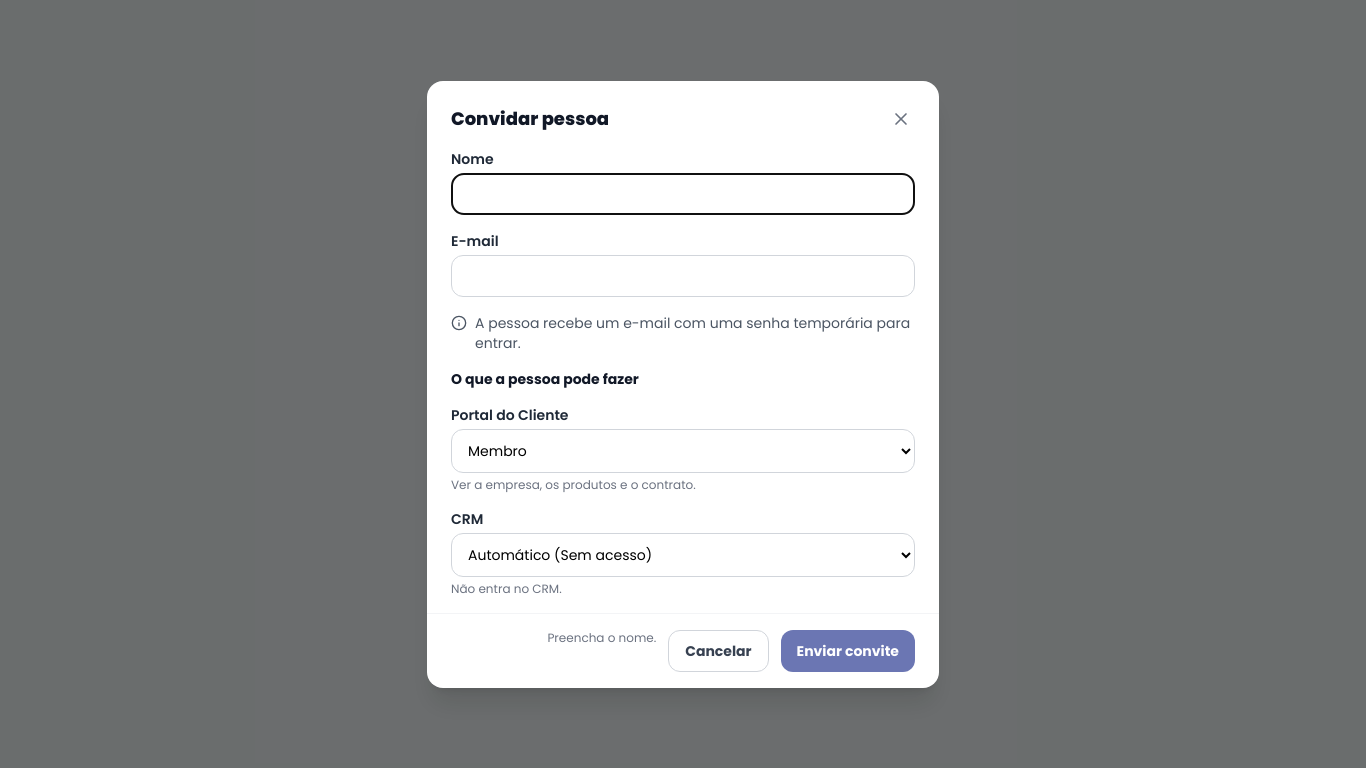
Test: UsuarioDialog — convidar › enquanto envia, os botões ficam desabilitados
Step 1. Type "Bia" into the field labelled "Nome" → point(683, 194), box top-left (451, 172), bottom-right (915, 214)
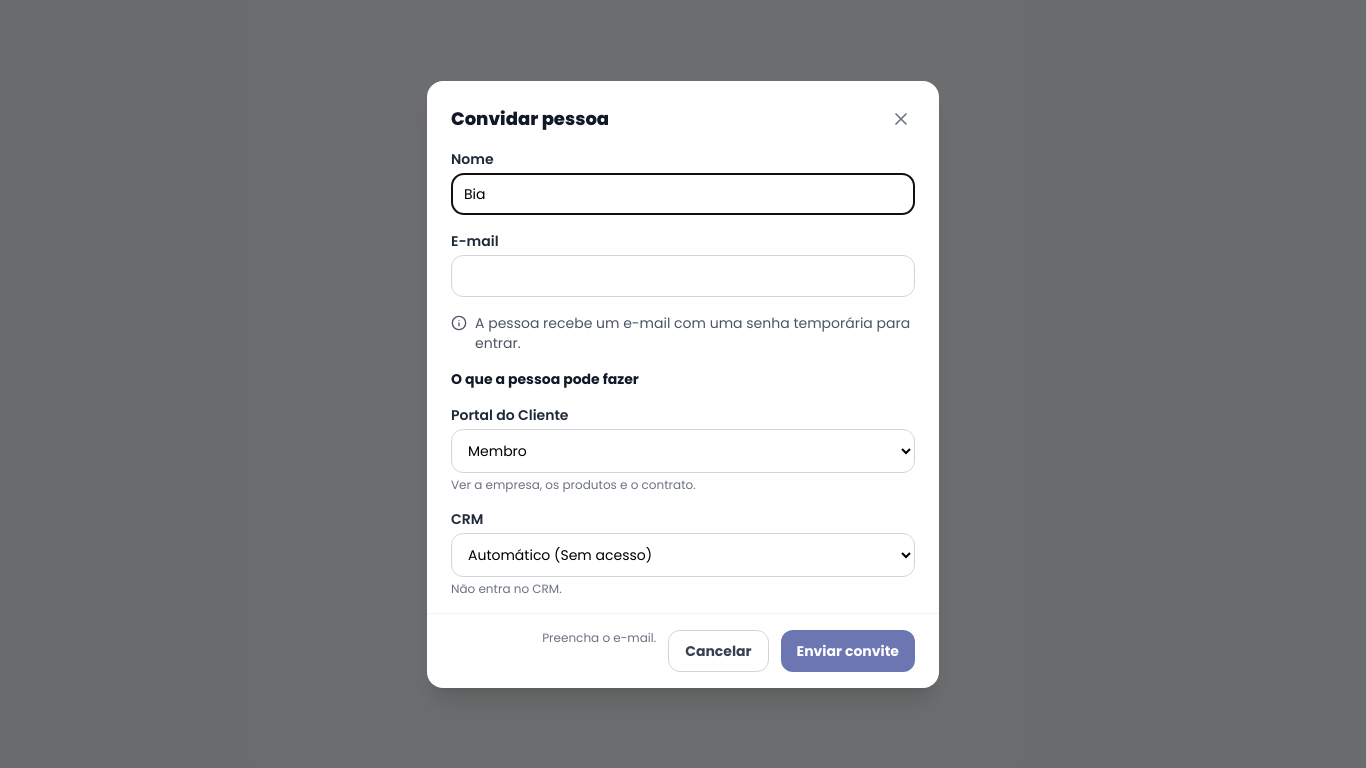
Step 2. Type "bia@loja.com" into the field labelled "E-mail" → point(683, 276), box top-left (451, 254), bottom-right (915, 296)
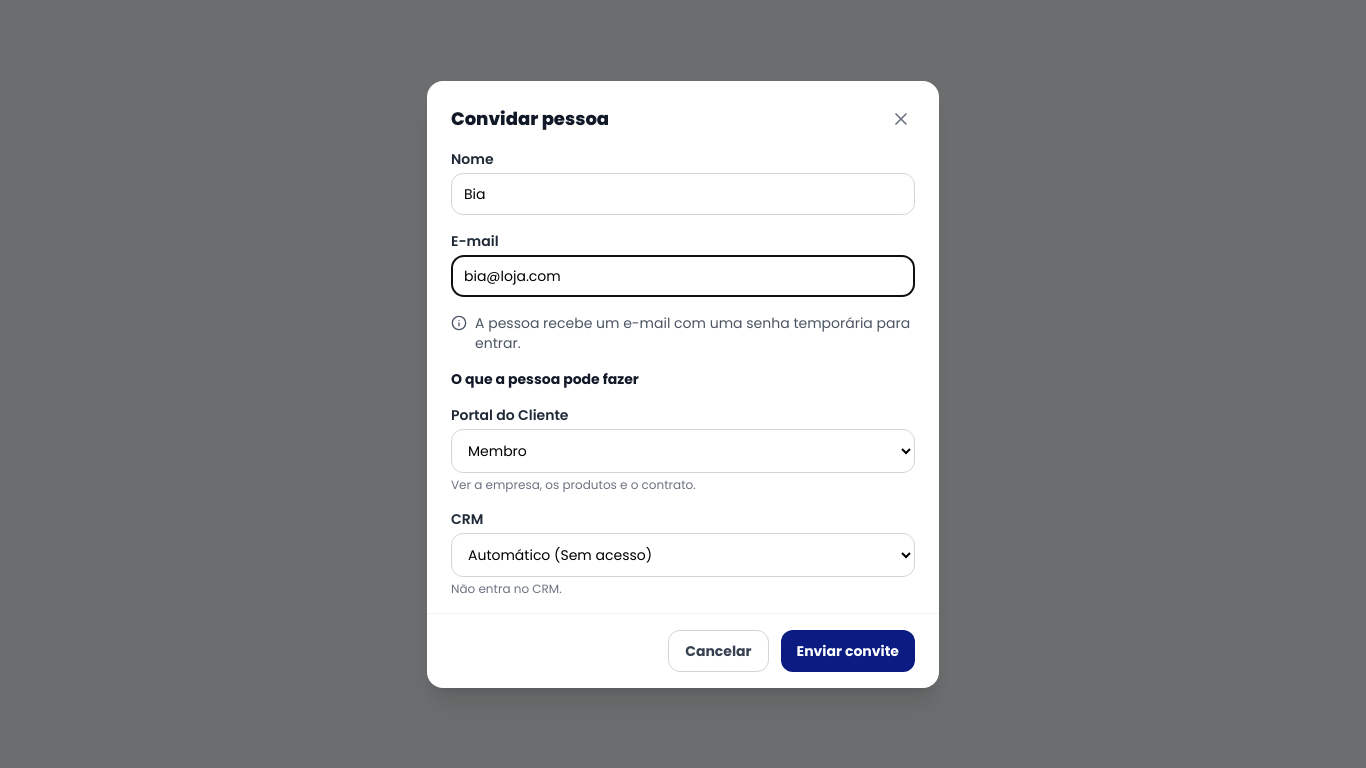
Step 3. Click the button "Enviar convite" → point(848, 650), box top-left (781, 630), bottom-right (915, 672)
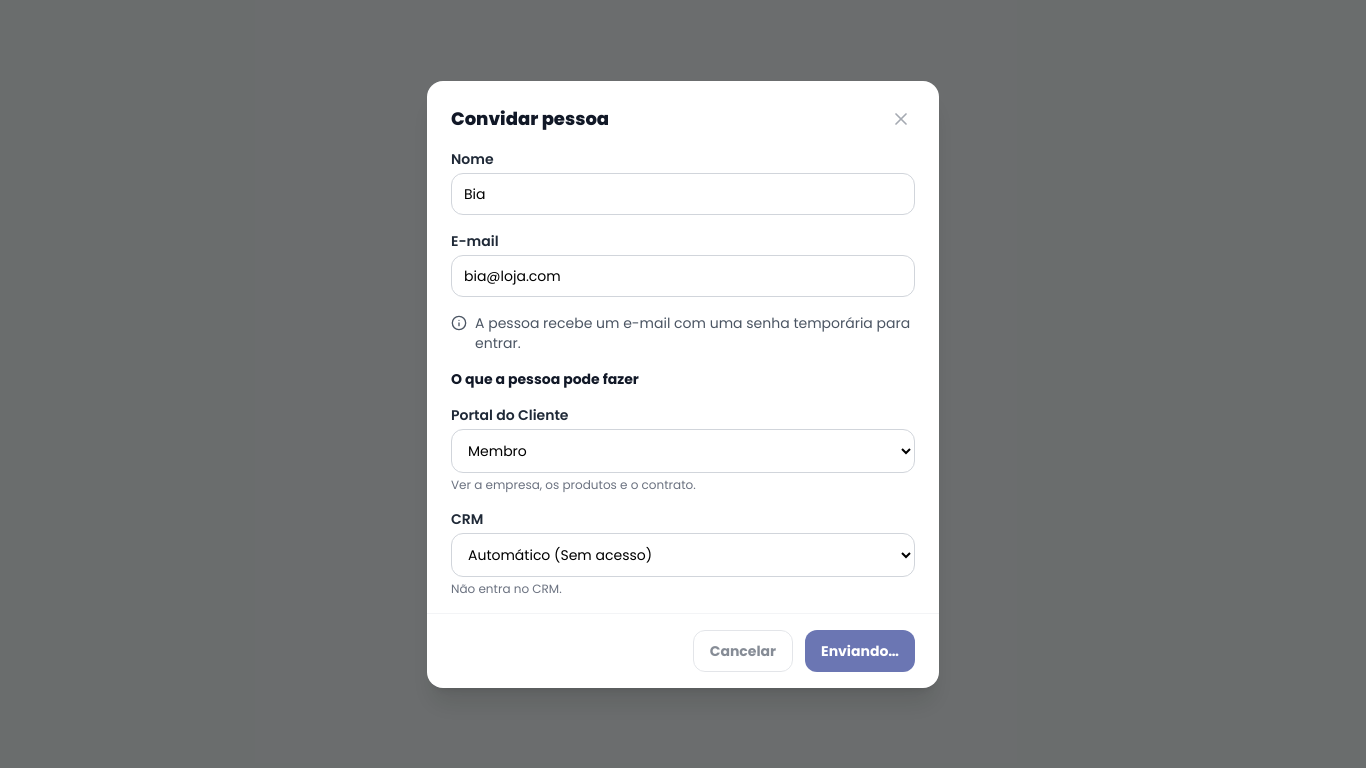
Check: the button "Enviando…" is disabled, box top-left (805, 630), bottom-right (915, 672)
Check: the button "Cancelar" is disabled, box top-left (693, 630), bottom-right (793, 672)
